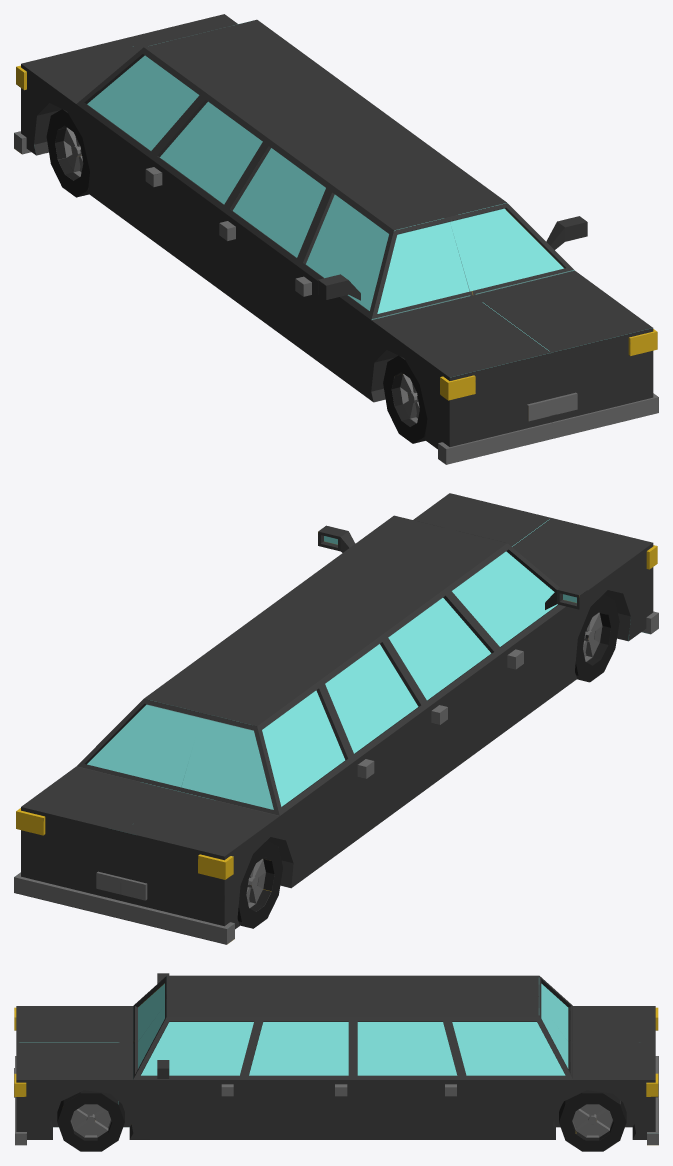
File: limousine.obj
3 views of the same model, one above another, from view 1: azimuth 30°, elevation 25°; view 2: azimuth 150°, elevation 25°; view 3: azimuth 270°, elevation 25° (orthographic). The views are drawn at different scales.
Bounding box in the file's own units: 2.68 × 1.58 × 7.67.
1 material, 1 textured.
